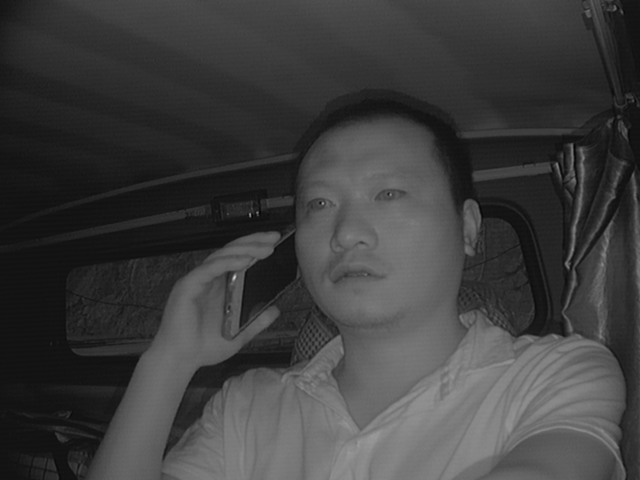hand: (164, 231, 277, 367)
